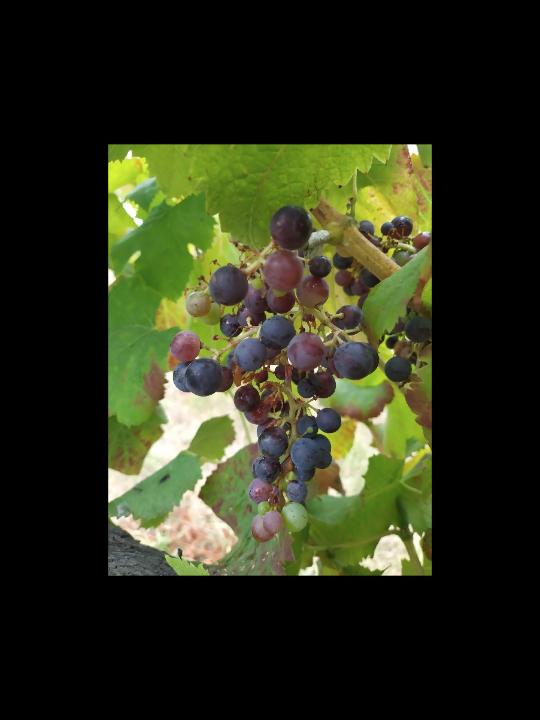grape: (163, 202, 381, 543)
